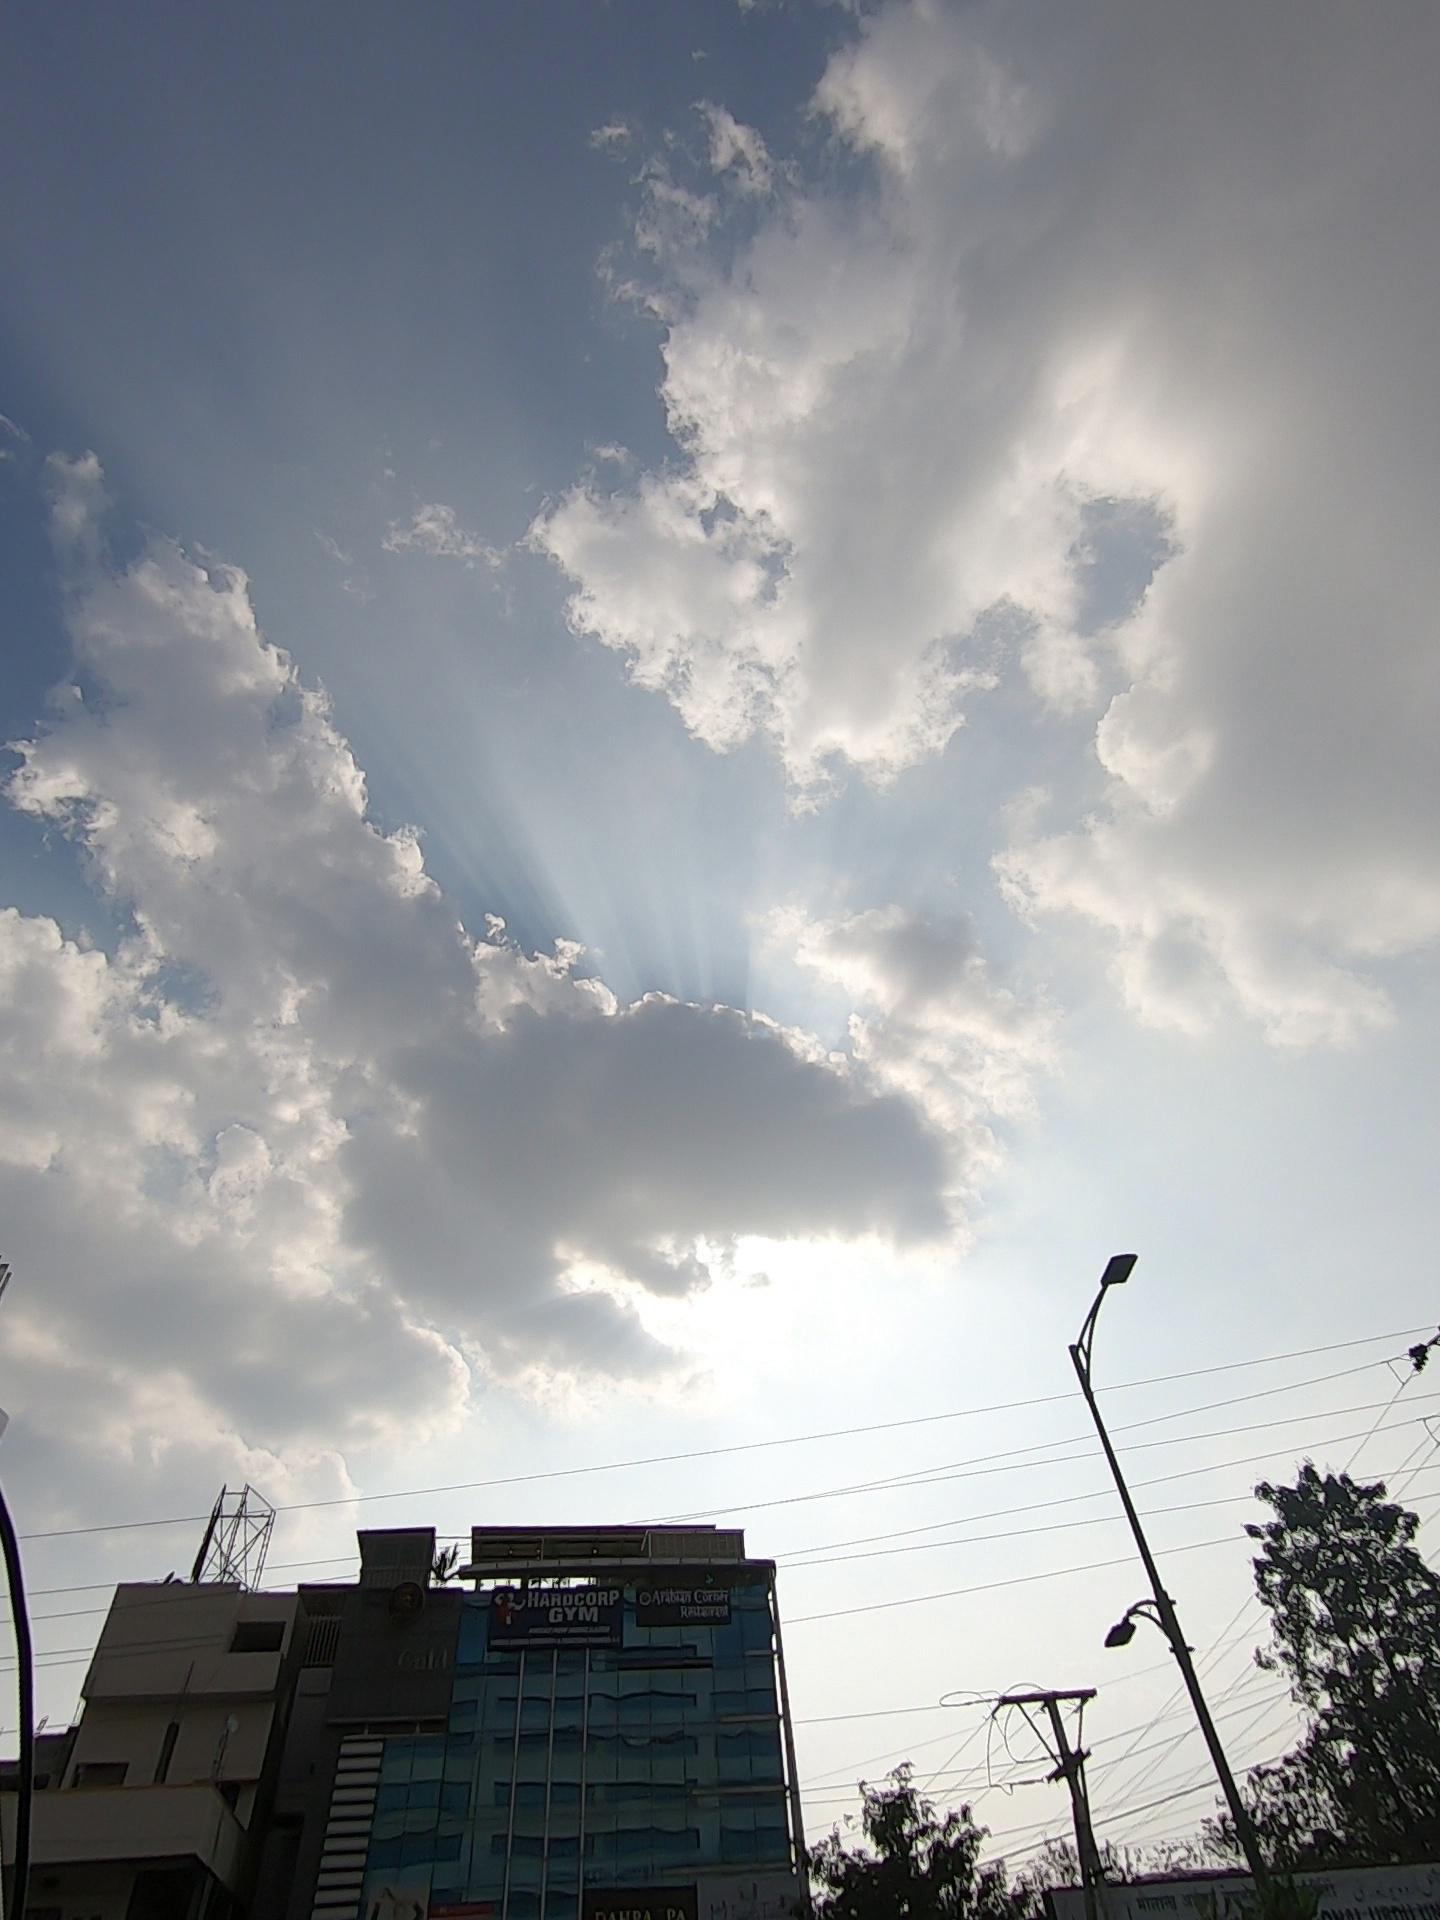off: (1000, 1206, 1248, 1752)
